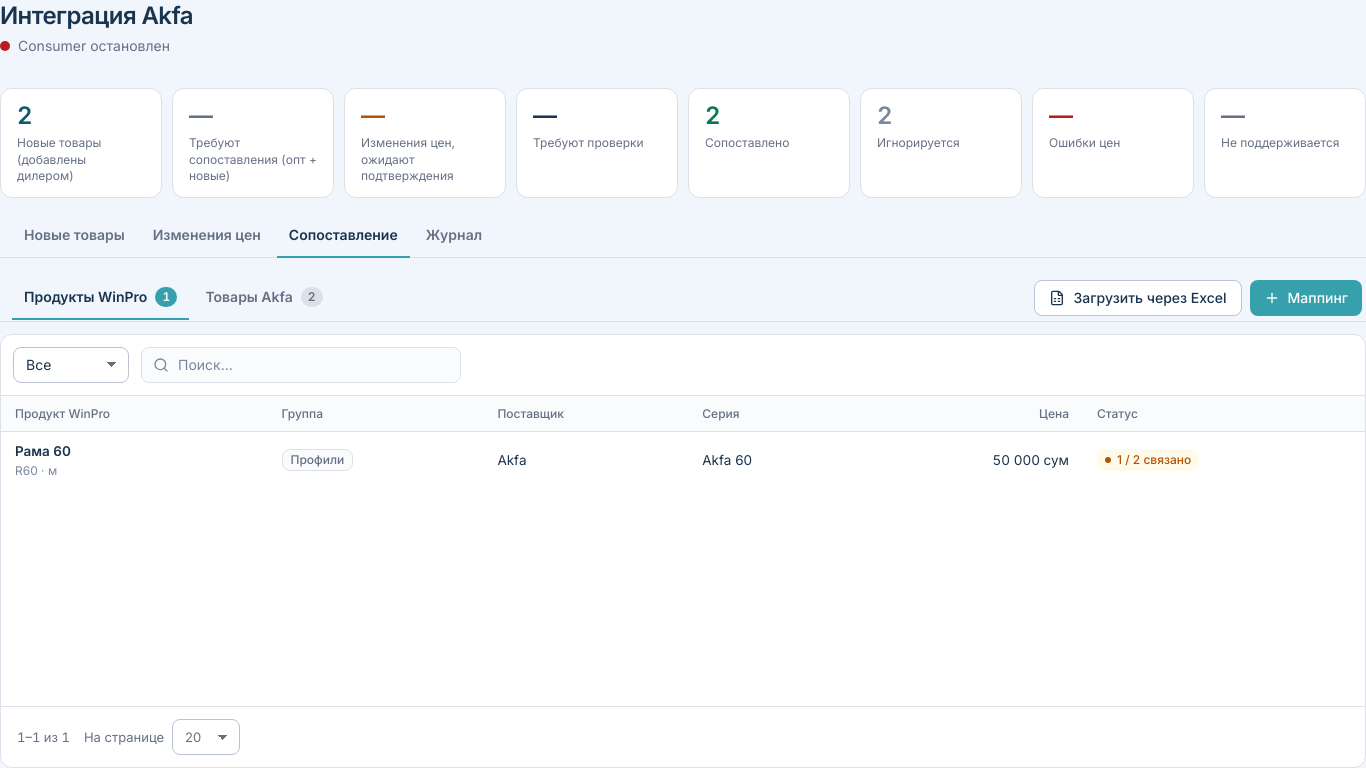
Akfa — mapping › links a product’s textures in the dialog and saves only the changes
Step 1. Click the button "Рама 60" → (43, 451), box x1=15 y1=442 x2=71 y2=461
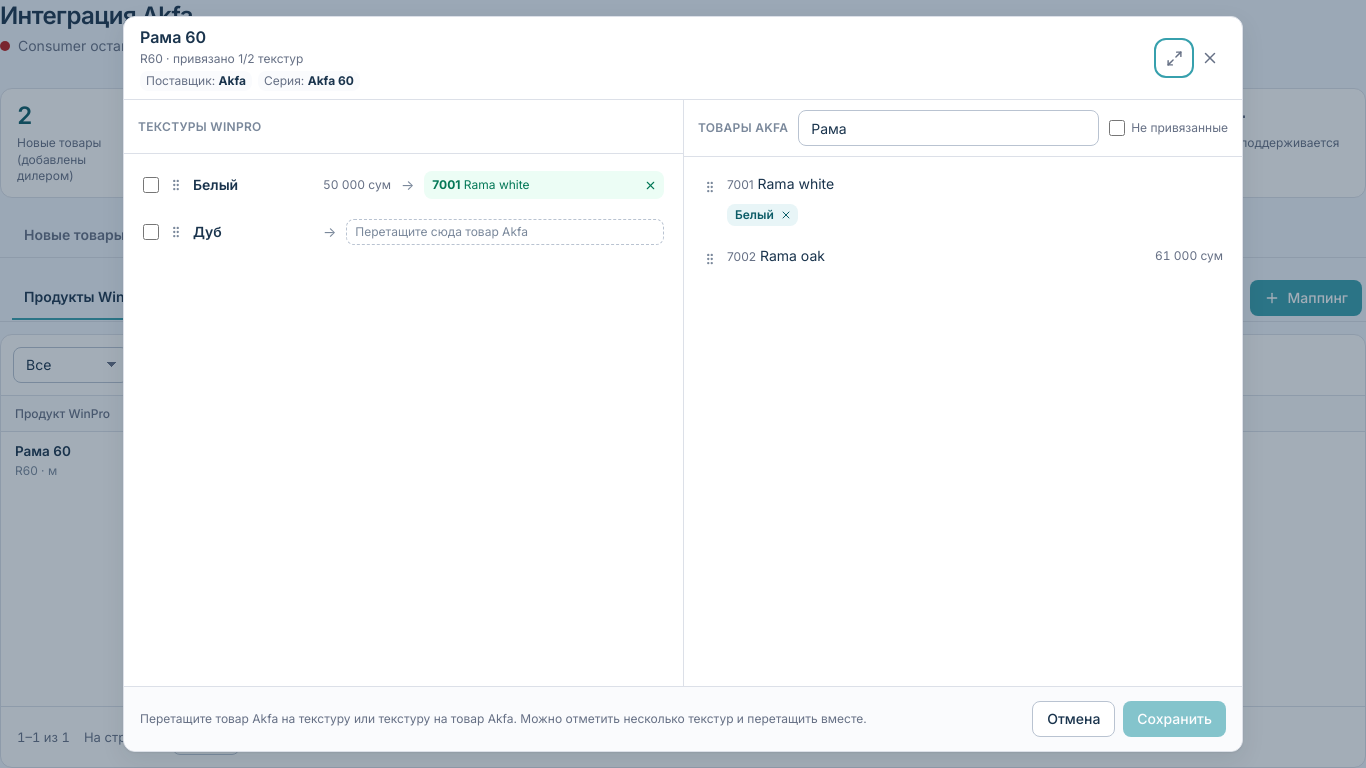
expect the checkbox named "Отметить Рама 60 · Дуб" is shown: met
expect the text "Rama oak" is shown: met, box x1=760 y1=247 x2=825 y2=264
expect the text "R60 · привязано 1/2 текстур" is shown: met, box x1=140 y1=51 x2=303 y2=66
Step 2. Click the checkbox named "Отметить Рама 60 · Дуб" → (151, 232), box x1=143 y1=224 x2=159 y2=240
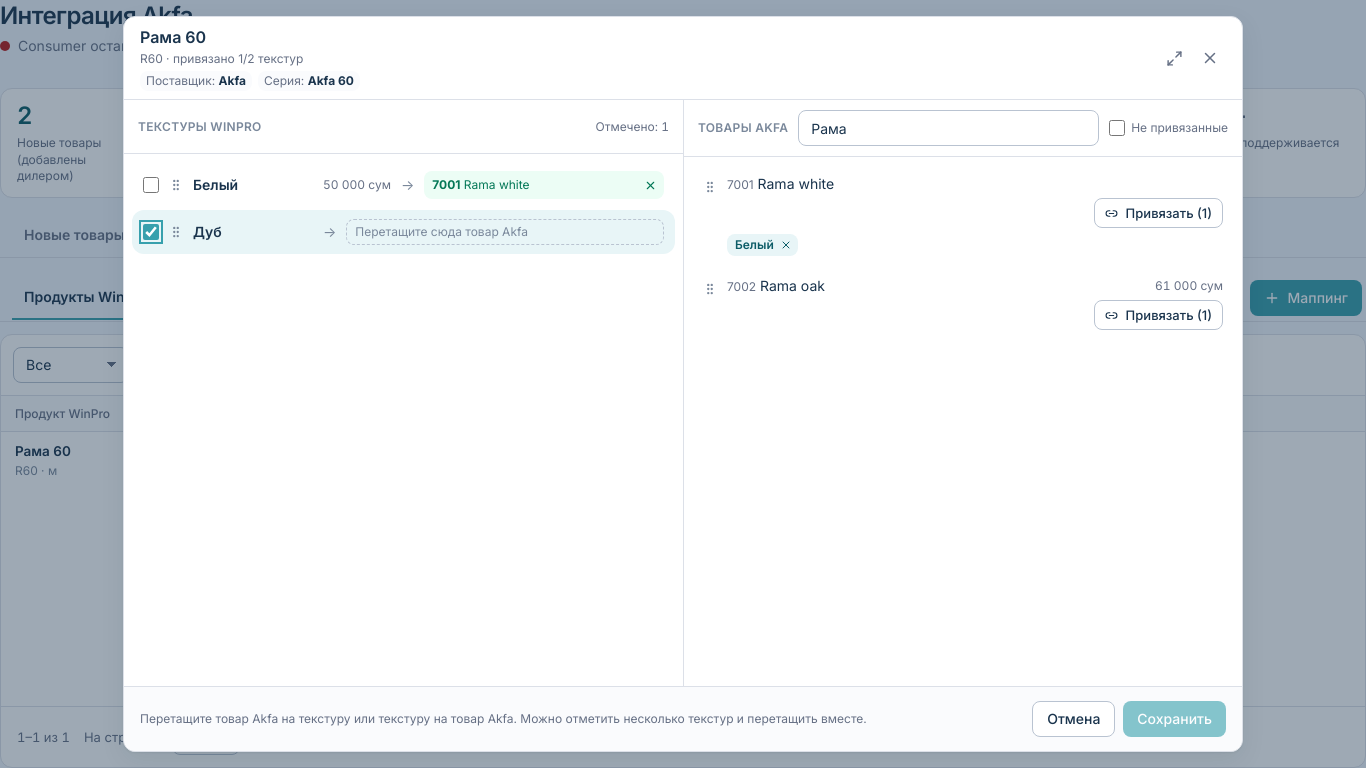
Step 3. Click the button "Привязать (1)" below "61 000 сум" → (1158, 315), box x1=1094 y1=300 x2=1223 y2=330
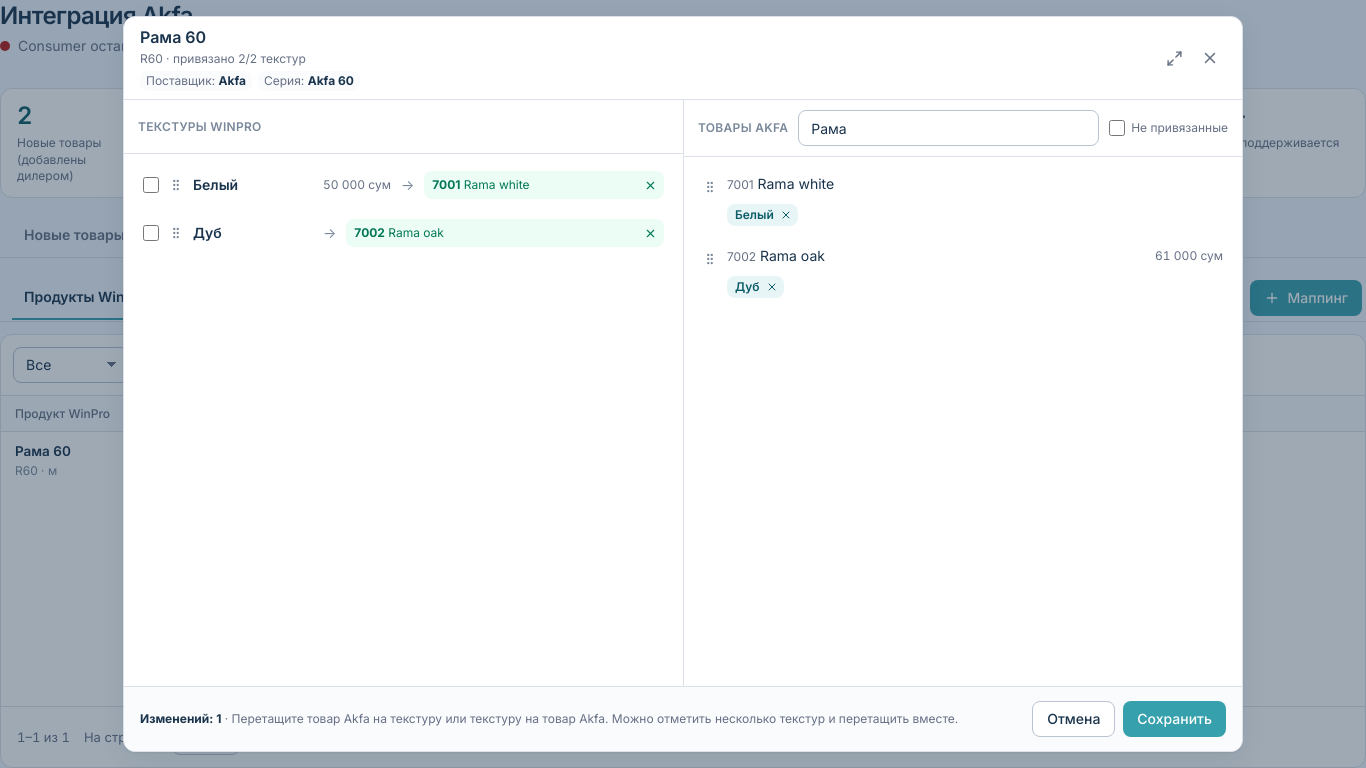
Step 4. Click the 1st button named "Отвязать Белый" → (650, 185), box x1=638 y1=173 x2=662 y2=197
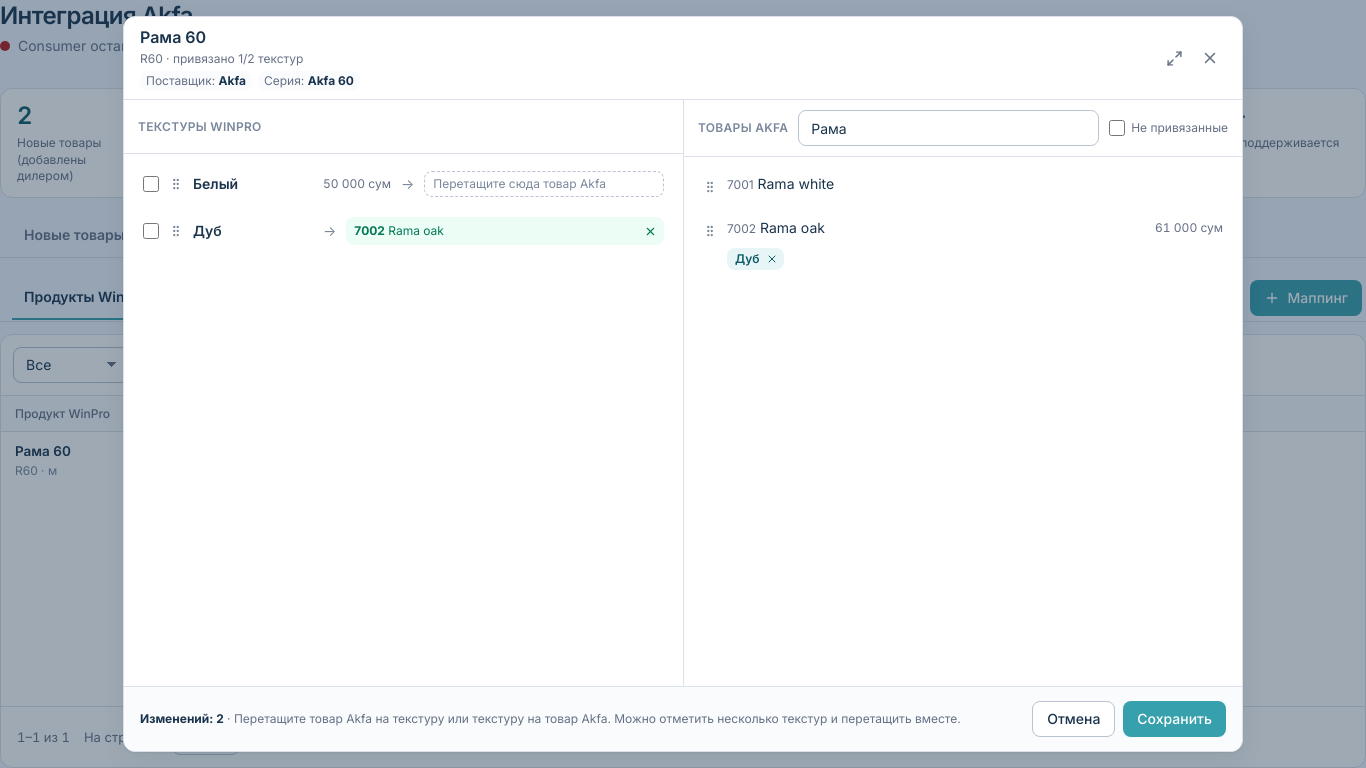
expect the text "Изменений: 2" is shown: met, box x1=140 y1=711 x2=224 y2=726
Step 5. Click the button "Сохранить" → (1175, 719), box x1=1123 y1=701 x2=1226 y2=737
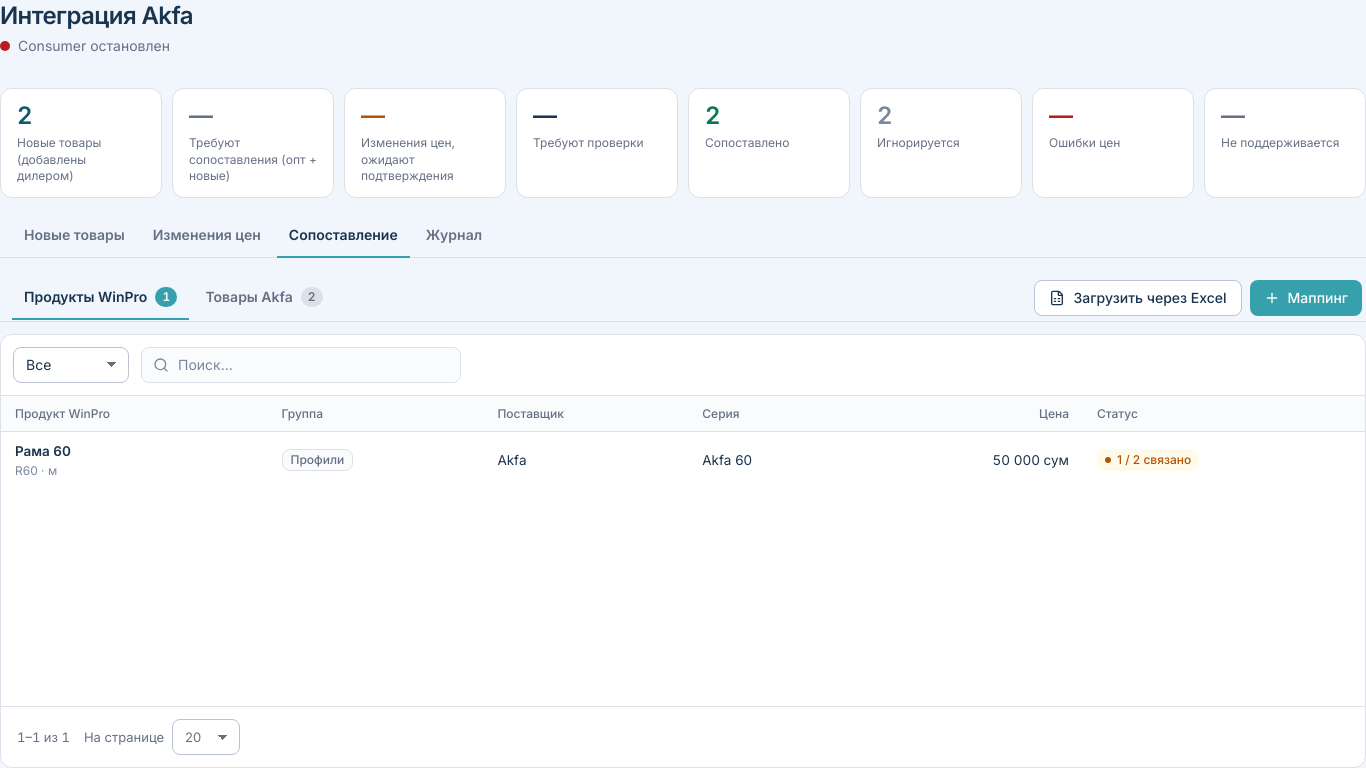
expect the dialog is gone: met
